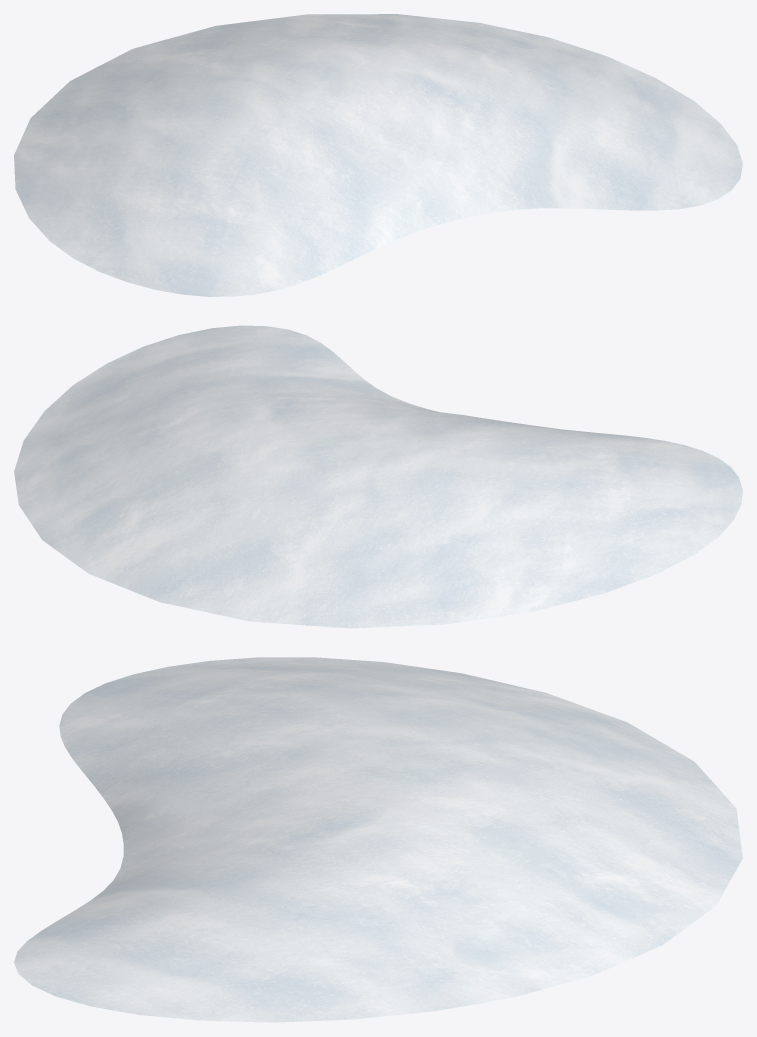
The model's file is Polar_Ground_03.fbx.
3 views of the same model, one above another, from view 1: azimuth 30°, elevation 25°; view 2: azimuth 150°, elevation 25°; view 3: azimuth 270°, elevation 25° (orthographic). The views are drawn at different scales.
Visible parts, largest first — view 1: Polar_Ground_03; view 2: Polar_Ground_03; view 3: Polar_Ground_03.
Boxes of the visible parts, left/top/right/bottom form: Polar_Ground_03: left=14, top=14, right=742, bottom=296; Polar_Ground_03: left=14, top=325, right=742, bottom=628; Polar_Ground_03: left=14, top=657, right=742, bottom=1022.
Size of the model in its own units: 1656 by 1397 by 147.
